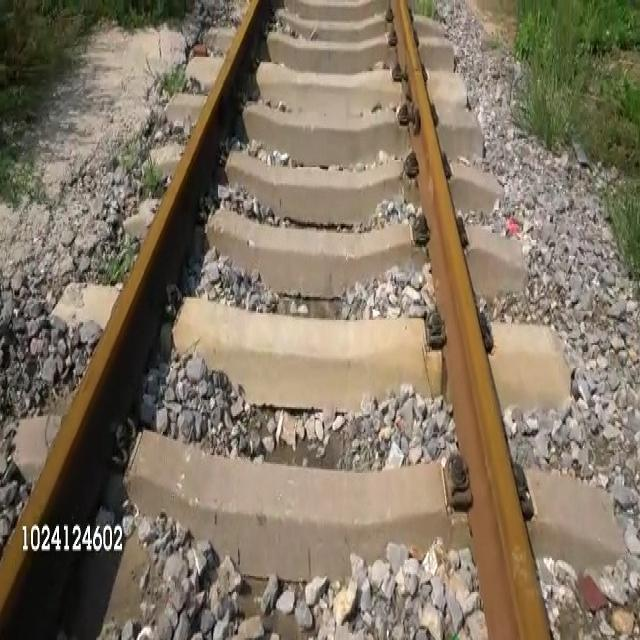Plant: (0, 0, 188, 199), (516, 0, 639, 156), (581, 74, 639, 186), (605, 185, 639, 280), (135, 161, 162, 195), (160, 68, 187, 93), (107, 253, 128, 284), (410, 0, 439, 19)
